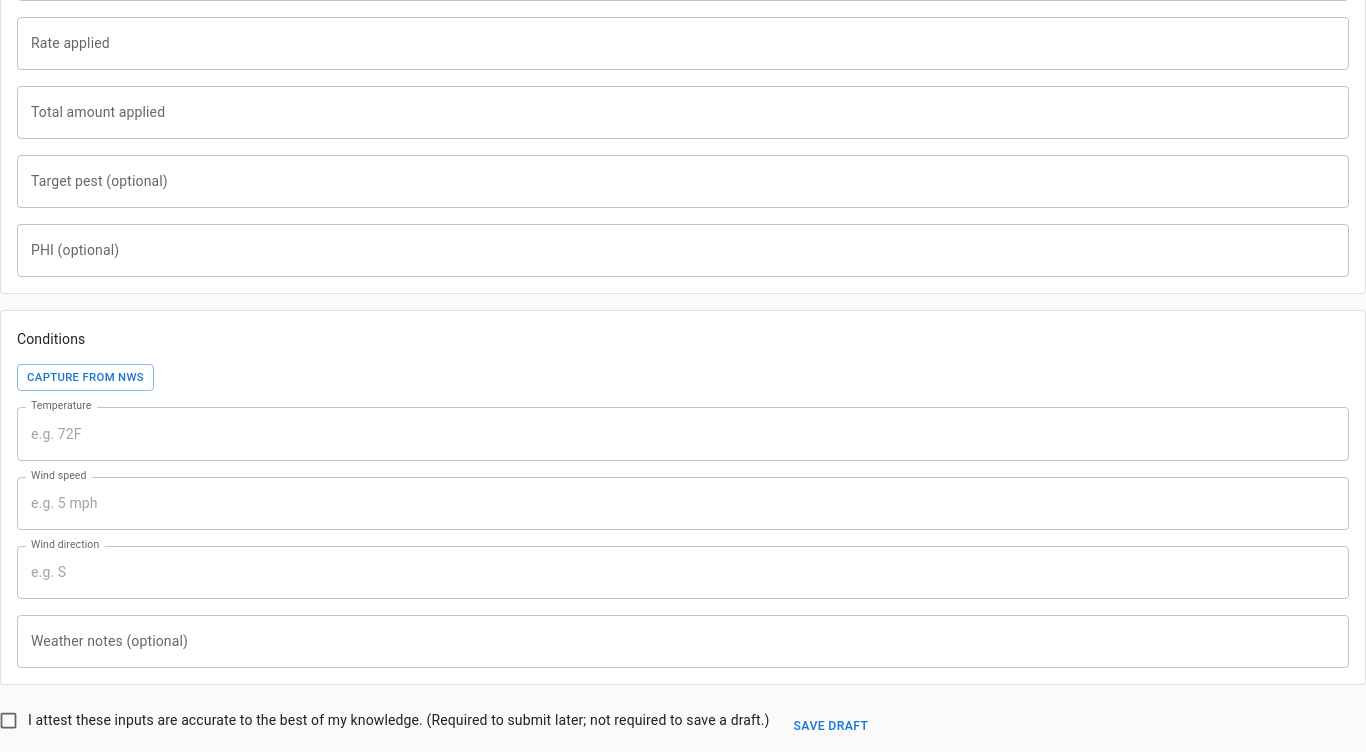
Test: DraftApplicationRecordForm weather capture › falls back to manual entry on weather timeout and surfaces a banner without throwing
The width and height of the screenshot is (1366, 752).
(page scrolled)
Click the button "Capture from NWS": (86, 377) [17, 364, 154, 391]
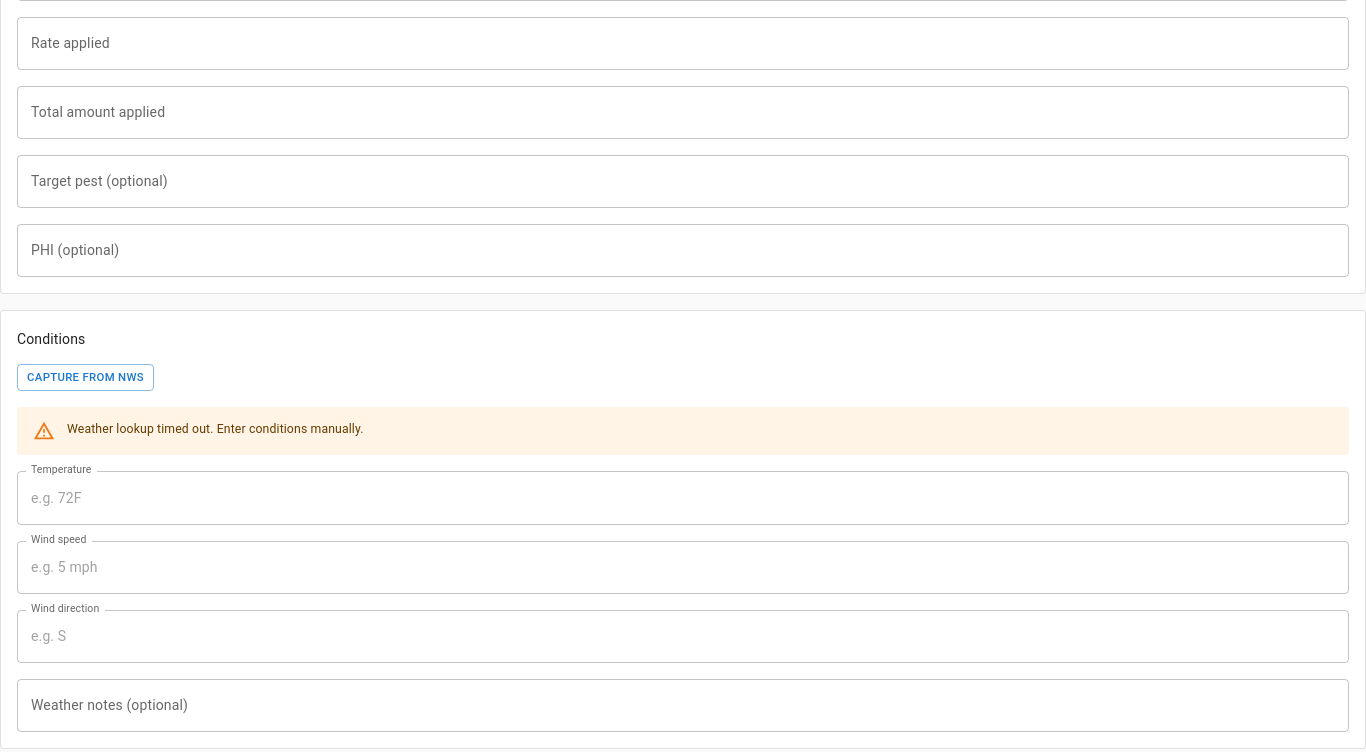
Expected: the message with test id "weather-capture-alert" shows "timed out", [67, 422, 364, 436]
